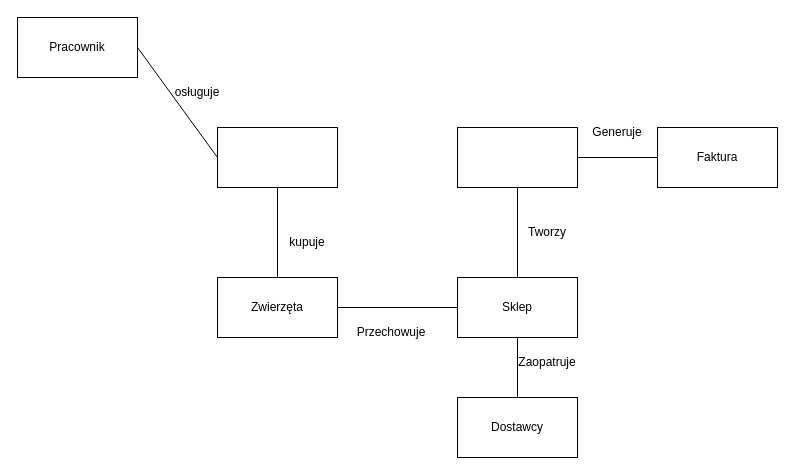
Image size: 795x475. Some labels were removed from this diagram. Each missing label, with the centre of its shape:
Klient: (277,157)
Zamówienie: (517,157)
